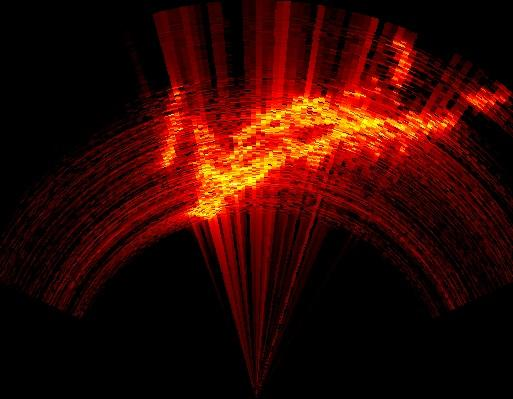shipwreck: (188, 92, 458, 219), (390, 38, 414, 92), (464, 85, 512, 112), (163, 111, 182, 166)
